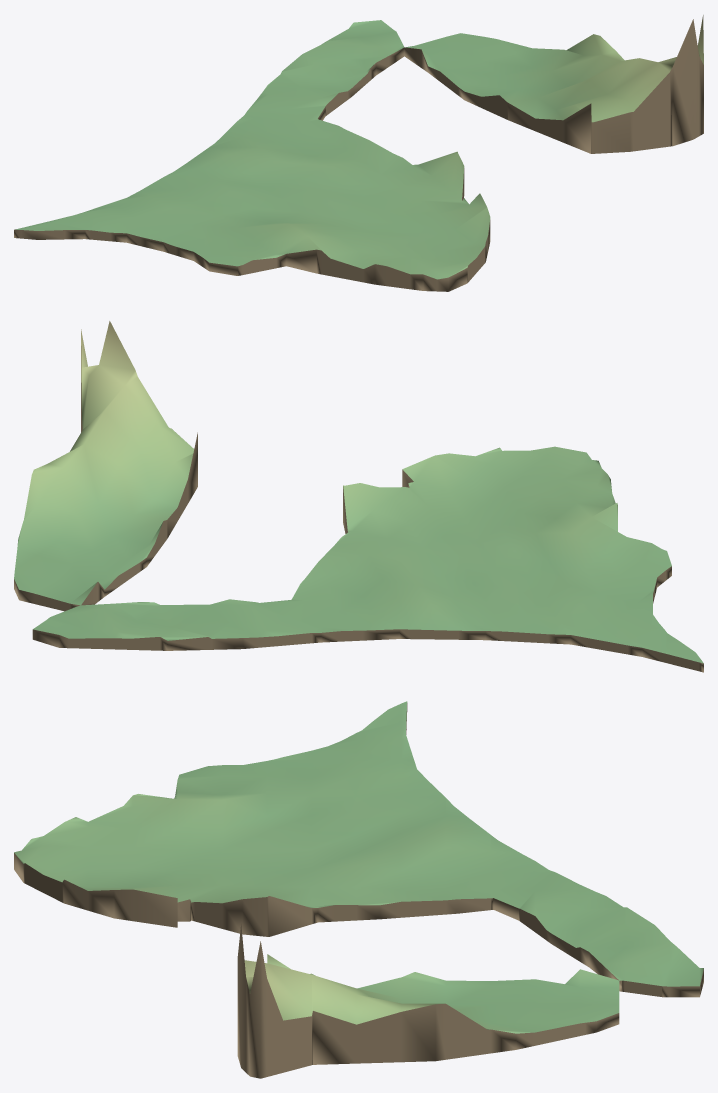
Rendered from BRN.glb.
3 renders of one model, top to bottom at view 1: azimuth 30°, elevation 25°; view 2: azimuth 150°, elevation 25°; view 3: azimuth 270°, elevation 25°, orthographic. The views are drawn at different scales.
Visible parts, largest first — view 1: BRN; view 2: BRN; view 3: BRN.
Part boxes in pixels (box(x1,y1,x2,y2)): BRN: box(14, 15, 703, 291); BRN: box(14, 321, 703, 672); BRN: box(14, 701, 703, 1078).
Size of the model in its own units: 1.83 by 0.338 by 1.45.
